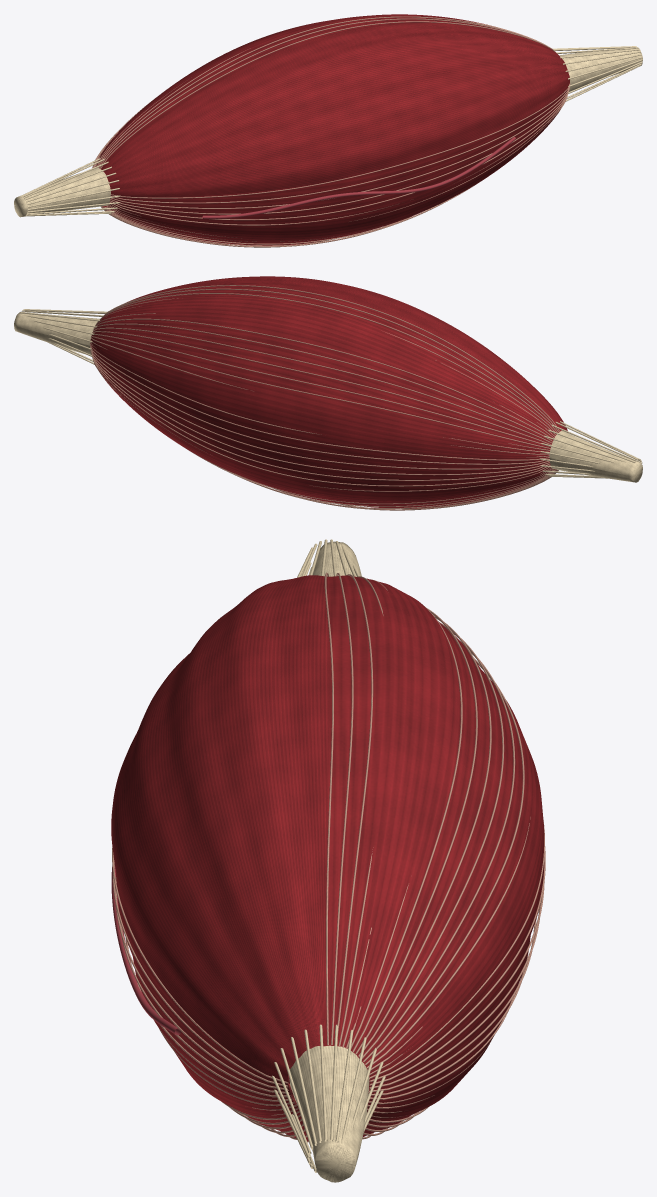
The model's file is muscle.glb.
3 views of the same model, one above another, from view 1: azimuth 30°, elevation 25°; view 2: azimuth 150°, elevation 25°; view 3: azimuth 270°, elevation 25° (orthographic). The views are drawn at different scales.
Visible parts, largest first — view 1: Epimysium_volet, Epimysium_coupe, Tendon, Vaisseau_surface; view 2: Epimysium_coupe, Tendon, Epimysium_volet; view 3: Epimysium_coupe, Epimysium_volet, Tendon, Vaisseau_surface.
Boxes of the visible parts, x1,y1,x2,y2 form: Epimysium_volet: (101,23,569,197); Epimysium_coupe: (92,14,570,247); Tendon: (14,46,642,217); Vaisseau_surface: (202,136,515,218); Epimysium_coupe: (90,285,559,510); Tendon: (14,309,642,482); Epimysium_volet: (127,276,567,431); Epimysium_coupe: (112,572,545,1142); Epimysium_volet: (111,575,328,1081); Tendon: (271,539,385,1182); Vaisseau_surface: (111,865,181,1035).
Size of the model in its own units: 8.76 by 2.67 by 2.66.
Materials: 5 (4 with a texture image).
